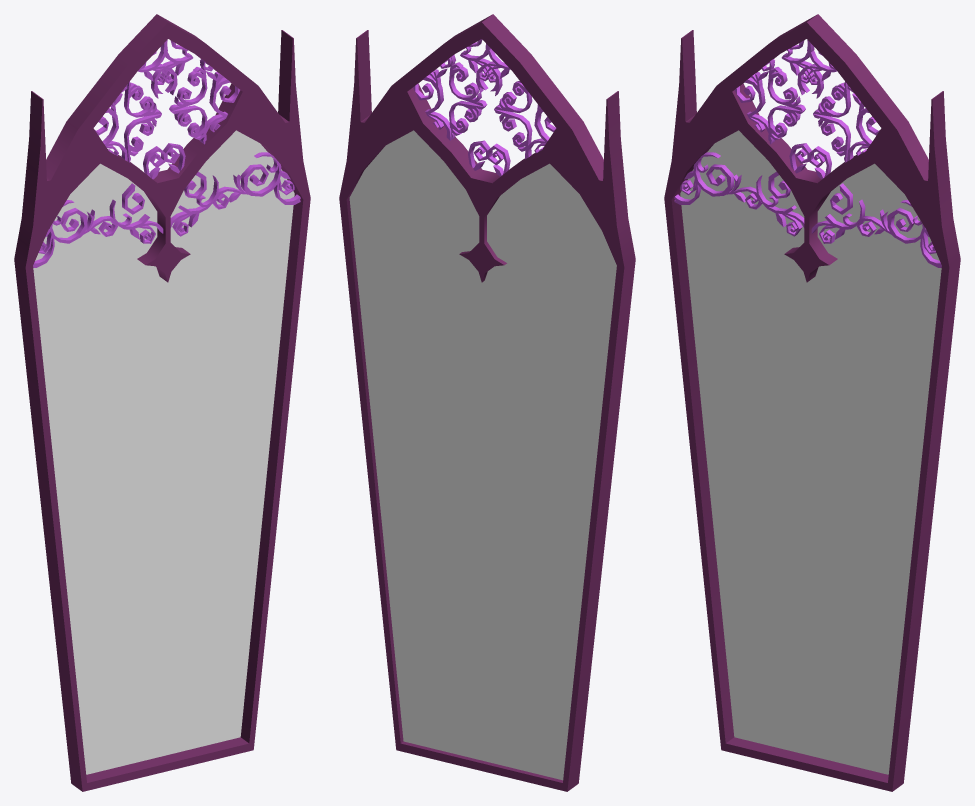
File: Portal.fbx
The picture shows the model from 3 angles, left to right: view 1: azimuth 30°, elevation 25°; view 2: azimuth 150°, elevation 25°; view 3: azimuth 330°, elevation 25°; orthographic projection.
Visible parts, largest first — view 1: Portal; view 2: Portal; view 3: Portal.
Boxes of the visible parts, x1,y1,x2,y2 form: Portal: [14, 14, 310, 791]; Portal: [339, 14, 635, 791]; Portal: [664, 14, 960, 791].
Bounding box in the file's own units: 383 × 960 × 26.48.
